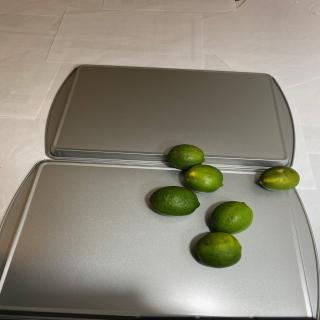Lemon: (195, 232, 242, 268), (149, 186, 200, 217), (210, 200, 253, 234), (184, 164, 224, 193), (259, 166, 300, 192), (167, 144, 205, 170)
